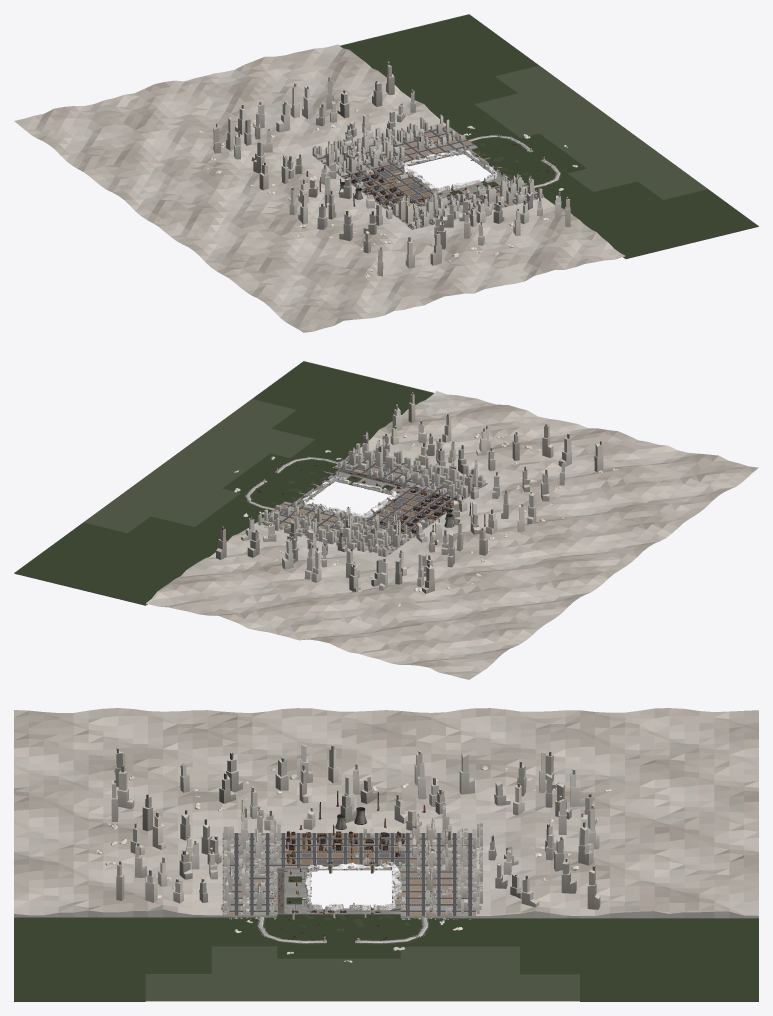
The model's file is L18_outer_v3.fbx.
The picture shows the model from 3 angles, top to bottom: view 1: azimuth 30°, elevation 25°; view 2: azimuth 150°, elevation 25°; view 3: azimuth 270°, elevation 25°; orthographic projection. The views are drawn at different scales.
Visible parts, largest first — view 1: OUT3_Ground_FarW, OUT3_Ground_FarN, OUT3_Ground_FarS, OUT3_SeaWater_FarE, OUT3_SeaWater_FarN, OUT3_SeaWater_FarS, OUT3_Ruins_FarW, OUT3_Ruins_FarN, OUT3_SeaWater_NE, OUT3_Ruins_FarS, OUT3_Ruins_NW, OUT3_SeaWater_SE (+10 smaller); view 2: OUT3_Ground_FarW, OUT3_Ground_FarN, OUT3_Ground_FarS, OUT3_SeaWater_FarE, OUT3_SeaWater_FarN, OUT3_SeaWater_FarS, OUT3_Ruins_FarW, OUT3_Ruins_FarN, OUT3_Ruins_FarS, OUT3_SeaWater_NE, OUT3_Ruins_NW, OUT3_Ruins_SW (+10 smaller); view 3: OUT3_Ground_FarW, OUT3_Ground_FarN, OUT3_Ground_FarS, OUT3_SeaWater_FarE, OUT3_SeaWater_FarN, OUT3_SeaWater_FarS, OUT3_Ruins_FarW, OUT3_Ruins_FarN, OUT3_SeaWater_NE, OUT3_Ruins_FarS, OUT3_SeaWater_SE, OUT3_SeaWater_E (+18 smaller).
Part boxes in pixels (x1,y1,x2,y2): OUT3_Ground_FarW: (14,118,408,332); OUT3_Ground_FarN: (24,44,439,155); OUT3_Ground_FarS: (354,202,624,319); OUT3_SeaWater_FarE: (483,58,717,203); OUT3_SeaWater_FarN: (340,14,528,118); OUT3_SeaWater_FarS: (546,182,758,258); OUT3_Ruins_FarW: (213,117,387,276); OUT3_Ruins_FarN: (235,61,415,145); OUT3_SeaWater_NE: (439,103,542,160); OUT3_Ruins_FarS: (405,191,570,268); OUT3_Ruins_NW: (312,124,420,177); OUT3_SeaWater_SE: (483,161,609,197); OUT3_Ground_FarW: (388,454,758,679); OUT3_Ground_FarN: (146,528,464,677); OUT3_Ground_FarS: (368,391,707,481); OUT3_SeaWater_FarE: (74,391,308,537); OUT3_SeaWater_FarN: (14,516,241,605); OUT3_SeaWater_FarS: (263,361,433,451); OUT3_Ruins_FarW: (399,441,603,593); OUT3_Ruins_FarN: (216,516,402,591); OUT3_Ruins_FarS: (382,392,571,471); OUT3_SeaWater_NE: (180,487,313,531); OUT3_Ruins_NW: (335,506,424,556); OUT3_Ruins_SW: (400,448,485,499); OUT3_Ground_FarW: (14,708,758,826); OUT3_Ground_FarN: (490,716,758,915); OUT3_Ground_FarS: (14,740,207,915); OUT3_SeaWater_FarE: (119,951,605,1001); OUT3_SeaWater_FarN: (503,918,758,1001); OUT3_SeaWater_FarS: (14,917,224,1001); OUT3_Ruins_FarW: (115,744,558,829); OUT3_Ruins_FarN: (493,768,600,909); OUT3_SeaWater_NE: (370,907,502,959); OUT3_Ruins_FarS: (111,765,211,903); OUT3_SeaWater_SE: (224,897,324,959); OUT3_SeaWater_E: (308,914,400,951).
Bounding box in the file's own units: 1996 × 164 × 2200.
